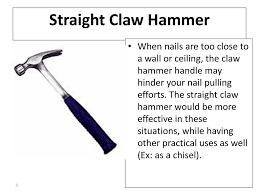hammer: (11, 47, 117, 154)
